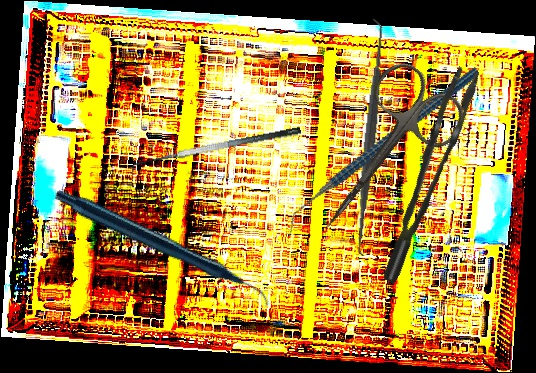Chopper: (256, 66, 509, 237)
Handpiece: (52, 127, 272, 373)
Iris Scissors: (286, 53, 476, 257)
Spatula Surgical: (343, 18, 396, 257), (128, 125, 304, 179)
Tissue Forceps: (354, 63, 501, 285)
